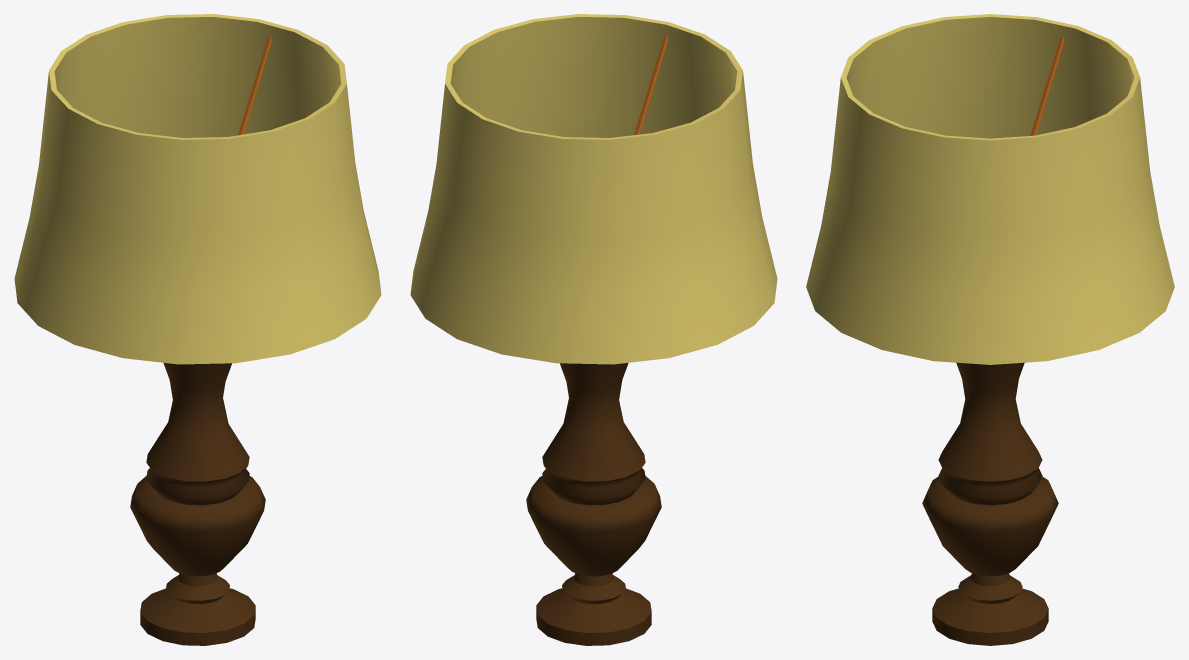
The model's file is model_Historical_Lamp.fbx.
The picture shows the model from 3 angles, left to right: view 1: azimuth 30°, elevation 25°; view 2: azimuth 150°, elevation 25°; view 3: azimuth 270°, elevation 25°; orthographic projection.
Parts seen in each view (by area): view 1: c_low, b_low, a_low; view 2: c_low, b_low, a_low; view 3: c_low, b_low, a_low.
Part boxes in pixels (box(x1,y1,x2,y2)): c_low: box(14, 14, 381, 364); b_low: box(130, 363, 265, 645); a_low: box(238, 36, 271, 135); c_low: box(410, 14, 777, 364); b_low: box(526, 363, 661, 645); a_low: box(634, 34, 668, 134); c_low: box(806, 14, 1174, 364); b_low: box(922, 362, 1058, 645); a_low: box(1030, 36, 1063, 135).
Bounding box in the file's own units: 47.81 × 77.83 × 47.81.
